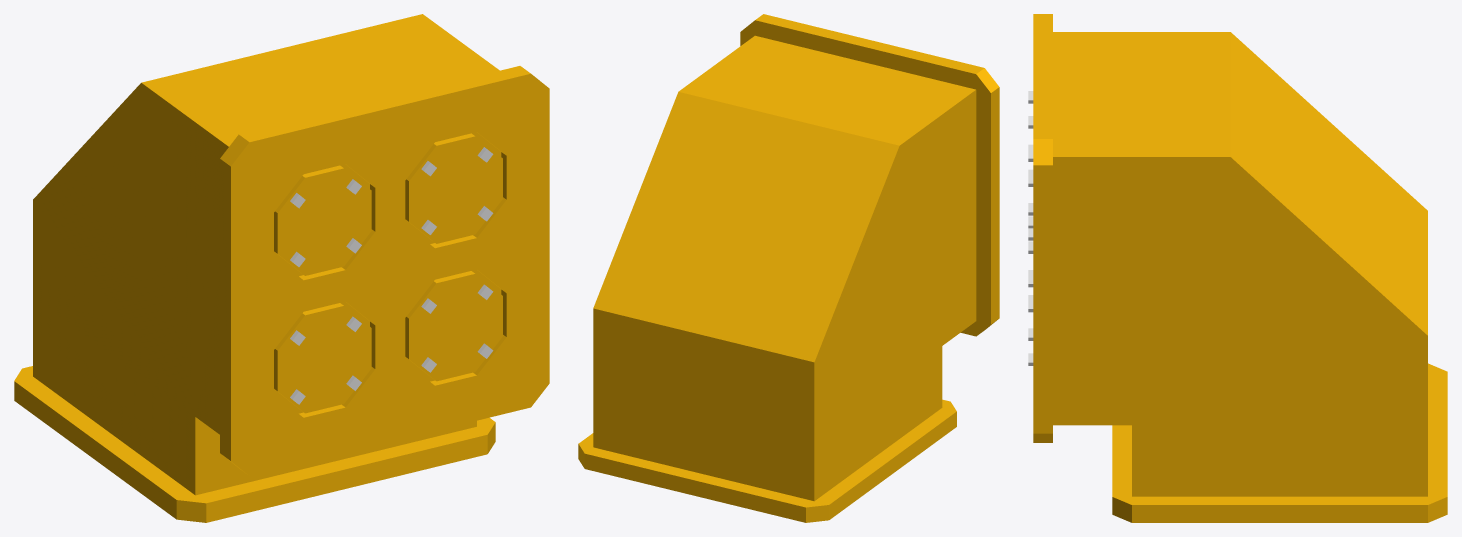
The model's file is modular_engine_manifold_housing_corner.dae.
The picture shows the model from 3 angles, left to right: view 1: azimuth 30°, elevation 25°; view 2: azimuth 150°, elevation 25°; view 3: azimuth 270°, elevation 25°; orthographic projection. The views are drawn at different scales.
Visible parts, largest first — view 1: Cube; view 2: Cube; view 3: Cube.
Boxes of the visible parts, x1=… form: Cube: x1=14, y1=14, x2=549, y2=522; Cube: x1=578, y1=14, x2=999, y2=522; Cube: x1=1028, y1=14, x2=1447, y2=522.
Bounding box in the file's own units: 0.17 × 0.2125 × 0.2125.
